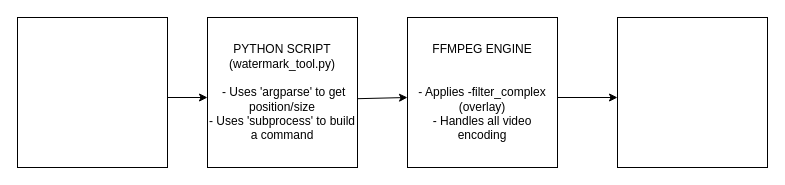
This 785x185 diagram has some shape labels left out. The box of each missing label's shape, as (x1, y1, x2, y2) in pixels:
INPUTS - input.mp4 - watermark.png: (16, 16, 168, 168)
OUTPUT - output.mp4 (Watermarked Video): (616, 16, 768, 168)
